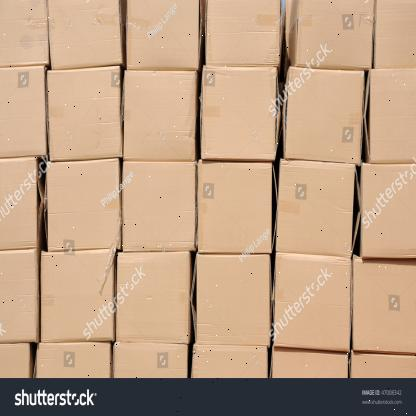box: (273, 256, 351, 353), (278, 163, 356, 257), (200, 67, 278, 160), (284, 70, 361, 164), (48, 66, 122, 161), (42, 249, 115, 344), (198, 160, 273, 252), (197, 254, 271, 347), (124, 67, 197, 160), (48, 160, 121, 252), (116, 252, 188, 344), (124, 161, 194, 251), (354, 261, 414, 353), (124, 0, 200, 72), (294, 0, 372, 66), (360, 167, 416, 258), (205, 0, 281, 66), (49, 0, 122, 66), (369, 71, 416, 162), (0, 66, 46, 156), (0, 250, 37, 343), (0, 160, 36, 248), (0, 0, 47, 66), (374, 0, 416, 70)
